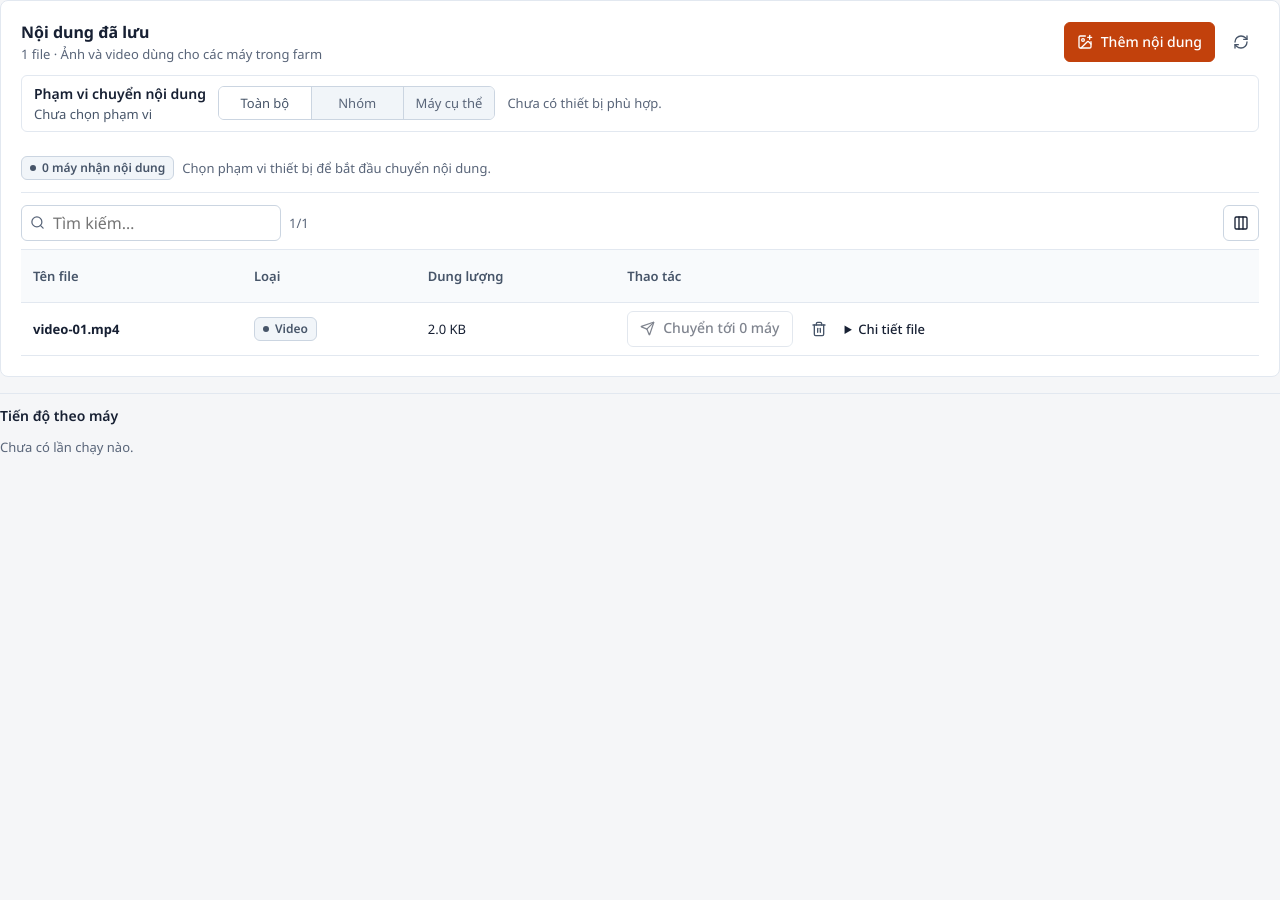
Scenario: MaterialPage list states › keeps import in a drawer and filters the table without changing scope
Expected: the text "video-01.mp4" is shown, [33,320,119,338]
Expected: the field with placeholder "Chọn ảnh hoặc video" is not shown
Click the button "Thêm nội dung": point(1139, 42) [1064,22,1215,62]
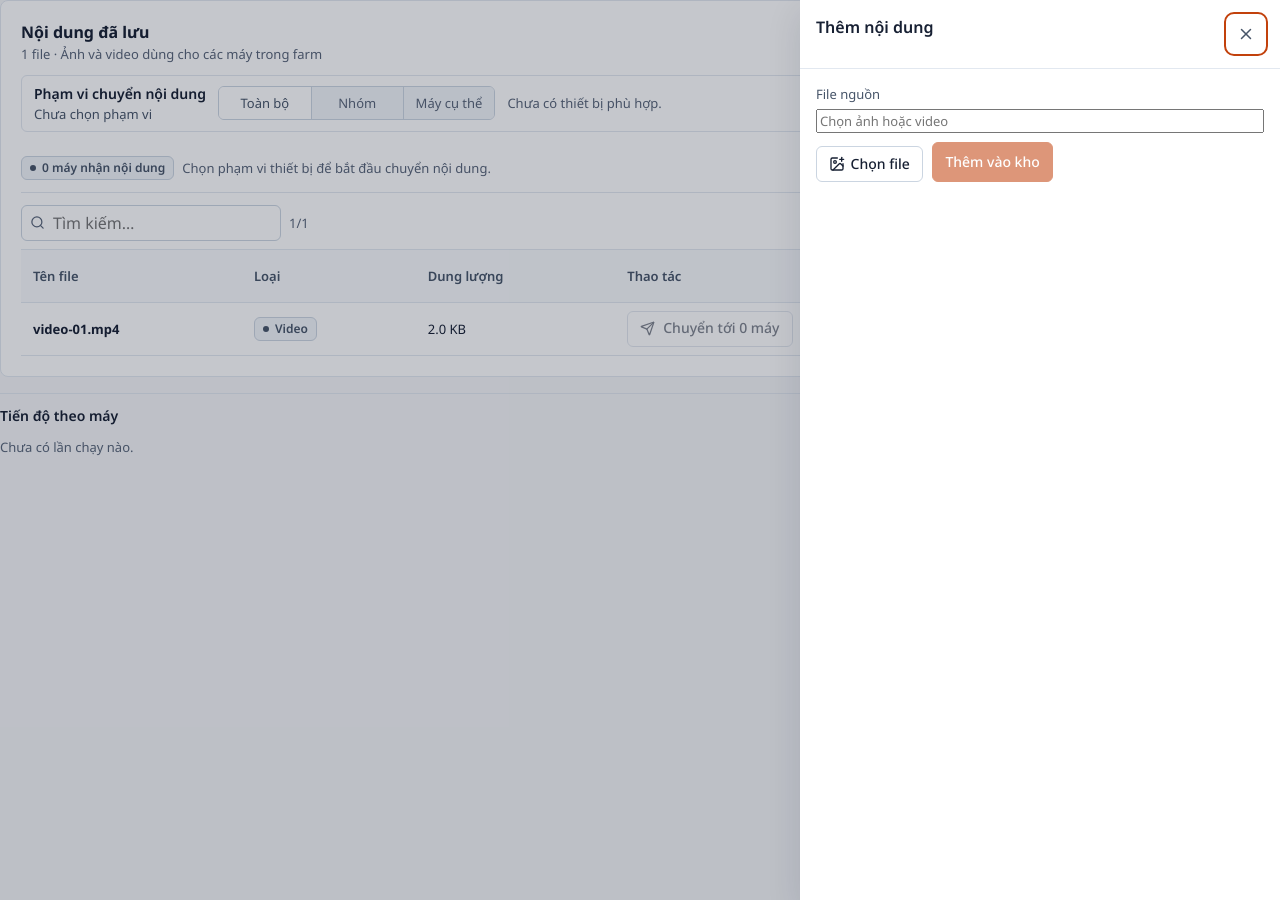
Result: the dialog "Thêm nội dung" is shown at [800,0,1279,899]
Click the button named "Đóng": point(1246, 34) [1228,16,1264,52]
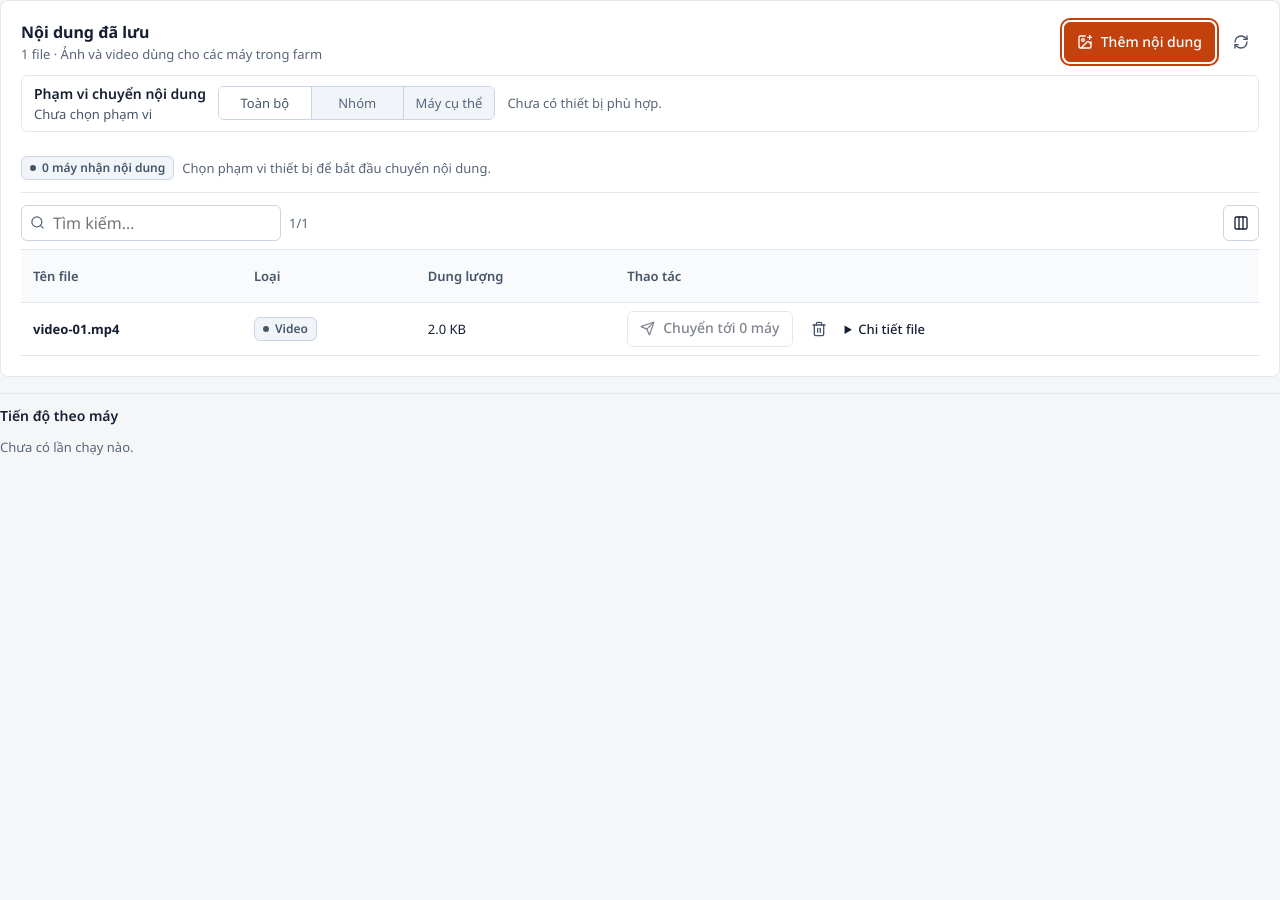
In the search field named "Tìm trong Nội dung đã lưu": point(162, 223) [53,212,272,234], type "missing"
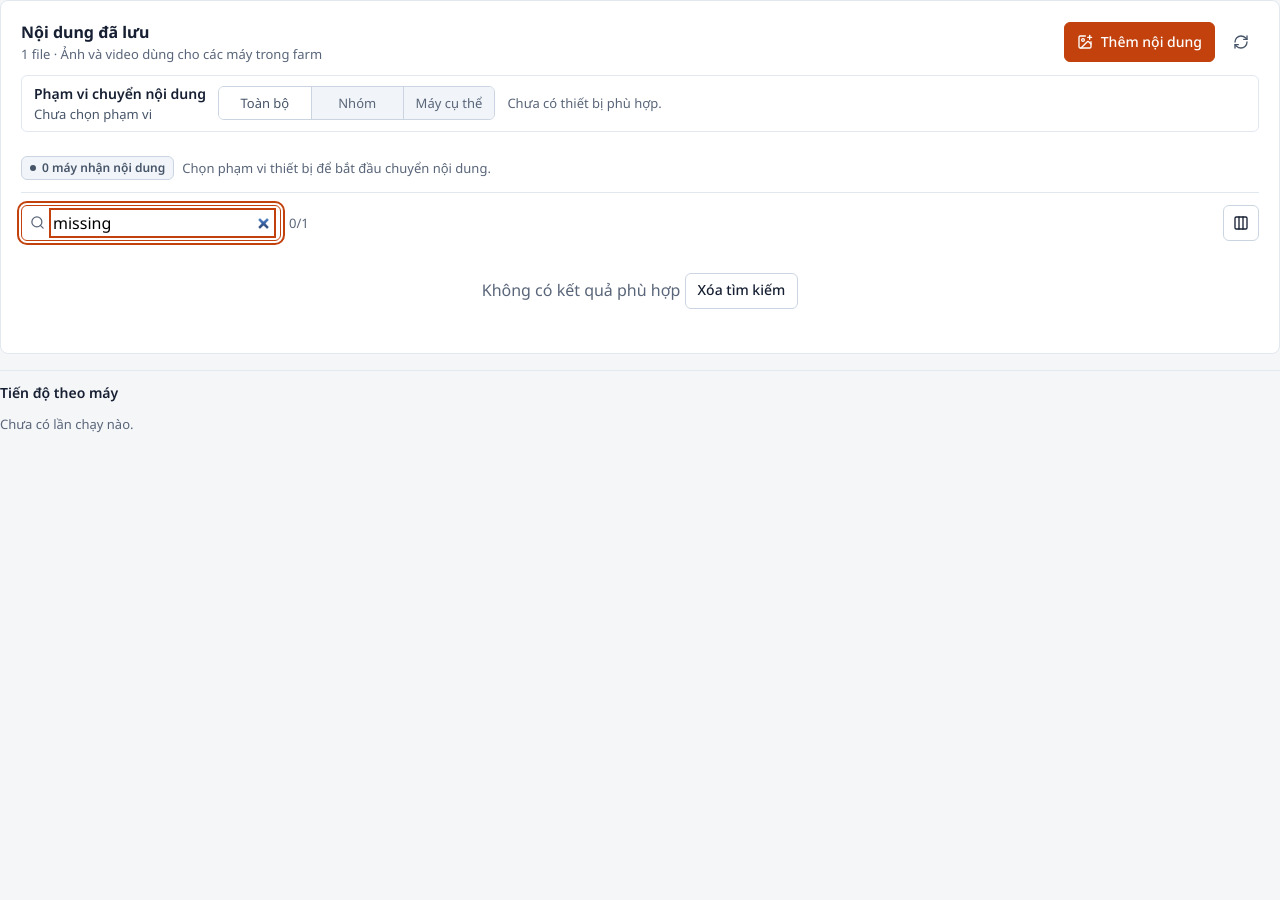
Result: the text "video-01.mp4" is gone
Result: the text "Không có kết quả phù hợp" is shown at [482,278,680,300]
